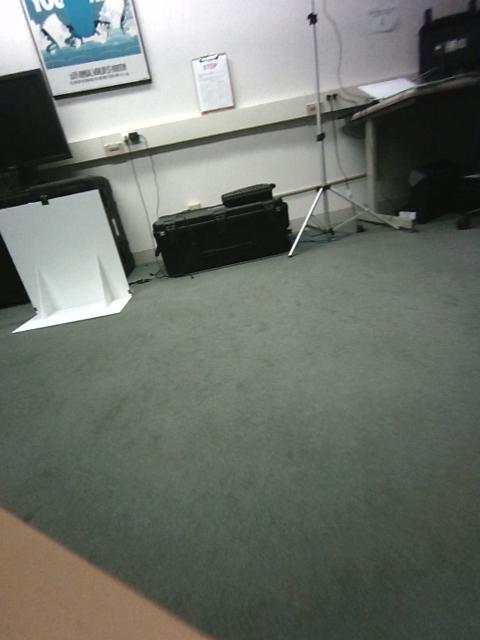block: (357, 231, 384, 254)
